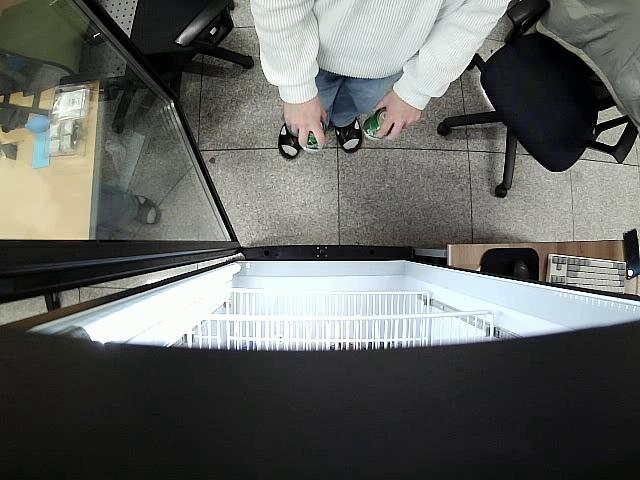00_hand: (283, 97, 327, 154), (376, 93, 421, 142)
12_chilsungCider: (361, 105, 395, 142), (305, 119, 326, 155)
